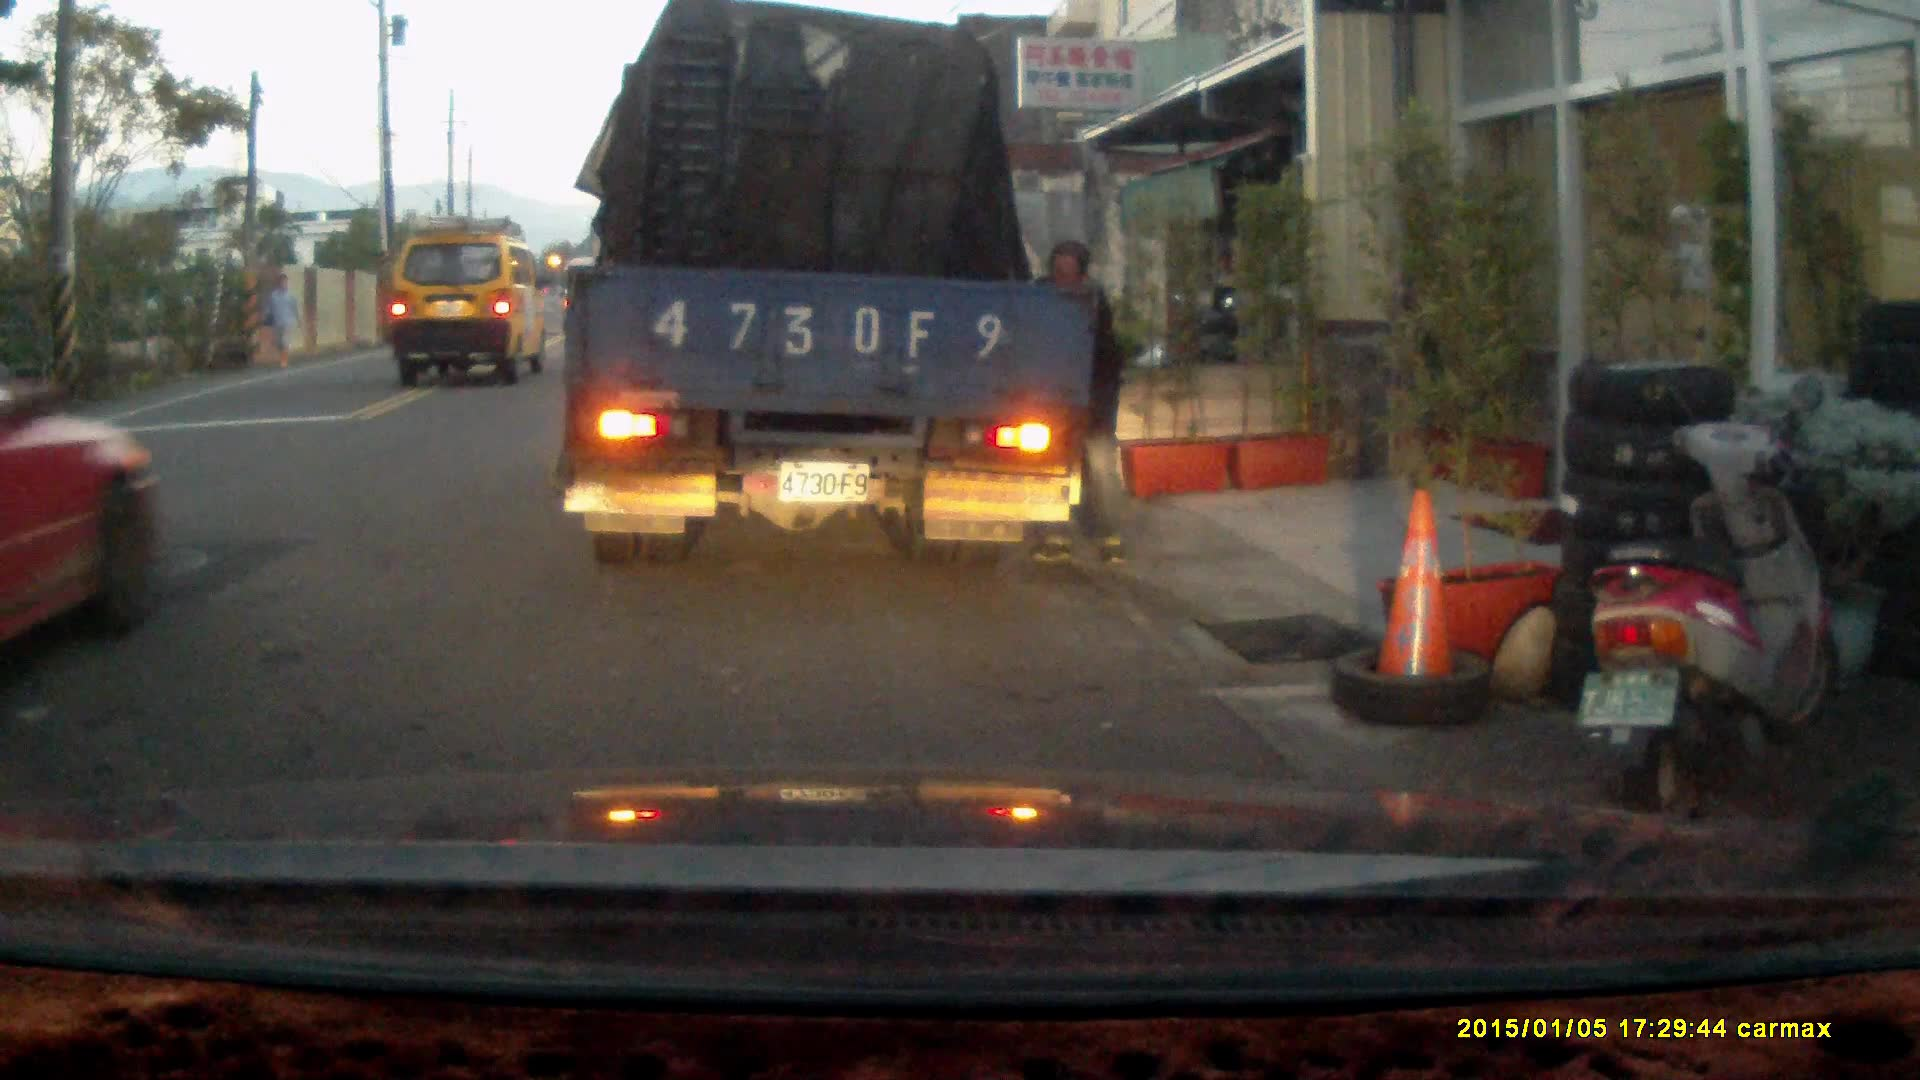pedestrian: (1020, 236, 1130, 573), (258, 276, 297, 369)
vehicle: (565, 23, 1094, 567), (1, 332, 161, 680), (388, 232, 554, 384)
